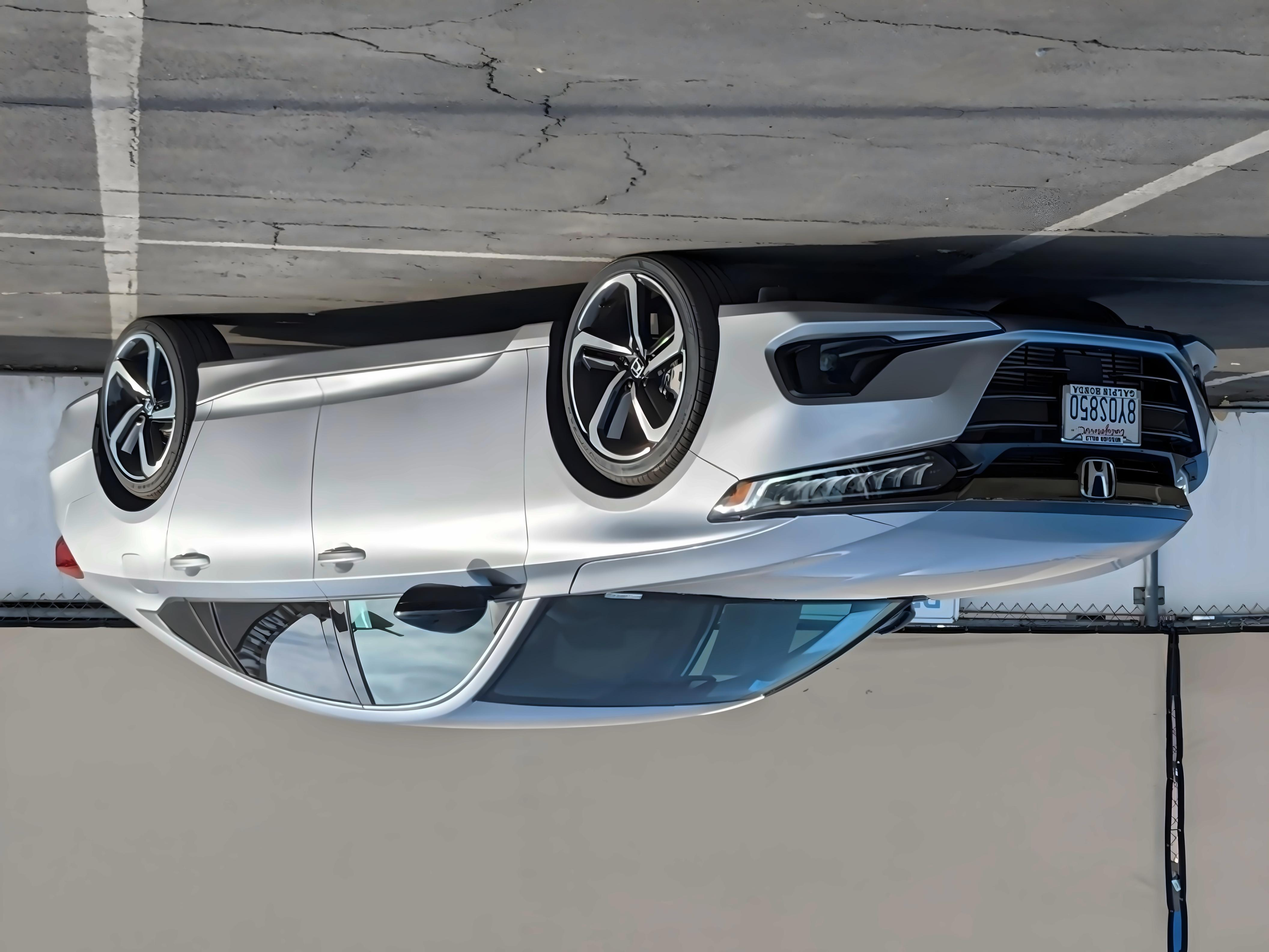Car hood: (694, 302, 1229, 472), (568, 510, 1206, 605)
Fender - -F-L-: (524, 338, 786, 601)
Fender - -R-L-: (67, 391, 216, 594)
Headlight - -L-: (706, 442, 980, 532)
Headlight - -R-: (1157, 454, 1200, 506)
Passenger-s door - -F-L-: (311, 344, 523, 724)
Passenger-s door - -R-L-: (159, 374, 311, 715)
Rear bumper: (41, 380, 109, 505)
Rear light - -L-: (44, 525, 88, 587)
Side bumper - -L-: (179, 316, 564, 408)
Side mirror - -L-: (390, 578, 519, 639)
Side mirror - -R-: (864, 595, 919, 647)
